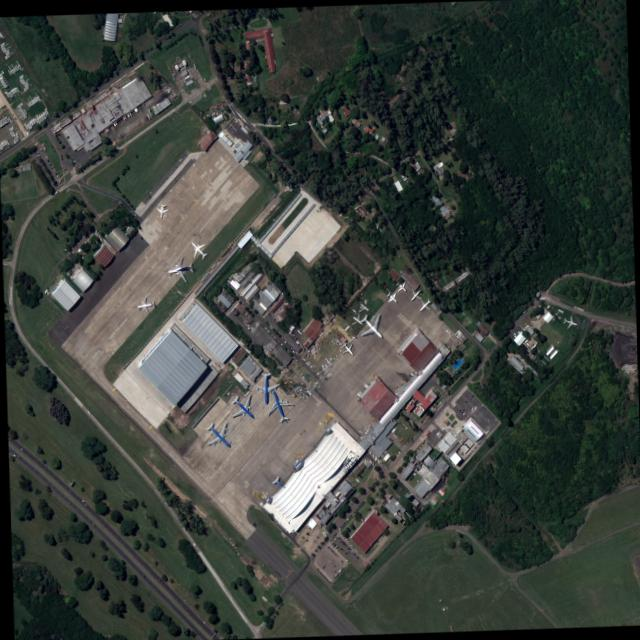large-vehicle: (127, 107, 133, 116), (111, 118, 117, 127), (139, 97, 145, 105), (112, 117, 118, 125), (120, 113, 126, 120), (125, 109, 130, 117), (122, 111, 127, 118), (105, 124, 110, 131), (104, 125, 109, 132), (103, 126, 107, 133), (146, 113, 151, 118), (192, 540, 196, 545), (322, 562, 325, 568), (364, 560, 368, 564), (87, 409, 91, 413), (265, 490, 268, 494), (149, 112, 152, 116), (262, 490, 265, 493)
plane: (199, 412, 240, 458), (354, 304, 393, 348), (224, 387, 264, 429), (259, 384, 297, 426), (268, 469, 301, 505), (251, 372, 281, 404), (165, 254, 195, 285), (185, 235, 211, 262), (405, 283, 426, 304), (414, 294, 435, 315), (338, 338, 358, 359), (136, 294, 156, 315), (393, 276, 411, 295), (383, 288, 402, 306), (562, 312, 579, 331), (153, 201, 170, 219)
small-vehicle: (54, 189, 59, 193), (164, 500, 168, 504), (470, 406, 474, 410), (523, 308, 527, 312), (12, 453, 16, 456), (369, 449, 372, 453), (35, 141, 38, 145), (292, 349, 295, 353), (341, 533, 344, 536), (346, 516, 349, 519), (357, 550, 360, 553), (429, 439, 432, 442), (487, 418, 490, 421), (8, 436, 11, 439), (406, 441, 409, 444), (361, 499, 364, 502), (358, 503, 361, 506), (142, 573, 145, 576), (55, 171, 58, 174), (54, 182, 57, 185), (42, 160, 45, 163), (51, 180, 54, 183), (52, 176, 55, 179), (88, 156, 91, 159), (40, 158, 43, 161), (203, 108, 206, 111), (41, 159, 44, 162), (438, 401, 441, 404), (440, 399, 443, 402), (322, 324, 325, 327), (462, 407, 465, 410), (468, 389, 471, 392), (471, 393, 474, 396), (84, 502, 87, 505), (284, 339, 287, 342), (34, 152, 37, 155), (35, 153, 38, 156), (38, 154, 41, 157), (518, 326, 521, 329), (264, 326, 267, 329), (266, 328, 269, 331), (372, 453, 374, 457), (289, 343, 291, 347), (350, 543, 353, 545), (348, 541, 350, 544), (343, 535, 345, 538), (340, 524, 342, 527), (342, 522, 344, 525), (343, 520, 345, 523), (345, 518, 347, 521), (347, 545, 349, 548), (346, 544, 348, 547), (343, 541, 345, 544), (350, 513, 352, 516), (352, 511, 354, 514), (353, 509, 355, 512), (431, 437, 433, 440), (423, 419, 425, 422), (425, 416, 428, 418), (427, 414, 429, 417), (355, 507, 357, 510), (481, 402, 483, 405), (20, 447, 23, 449), (372, 452, 374, 455), (375, 476, 377, 479), (371, 481, 373, 484), (357, 505, 359, 508), (158, 578, 161, 580), (312, 555, 314, 558), (331, 526, 333, 529), (333, 521, 336, 523), (92, 522, 95, 524), (336, 533, 338, 536), (343, 548, 345, 551), (340, 546, 342, 549), (332, 533, 335, 535), (331, 534, 333, 537), (339, 536, 341, 539), (344, 549, 346, 552), (333, 542, 335, 545), (334, 543, 336, 546), (332, 544, 334, 547), (333, 546, 336, 548), (335, 548, 338, 550), (328, 545, 330, 548), (25, 461, 28, 463), (34, 467, 36, 470), (57, 146, 59, 149), (59, 179, 61, 182), (65, 166, 67, 169), (64, 167, 66, 170), (56, 174, 59, 176), (88, 157, 90, 160), (57, 180, 59, 183), (45, 165, 47, 168), (51, 166, 54, 168), (49, 162, 52, 164), (46, 157, 49, 159), (46, 155, 48, 158), (44, 154, 47, 156), (44, 152, 46, 155), (43, 151, 45, 154), (42, 150, 45, 152), (41, 149, 44, 151), (40, 146, 42, 149), (215, 108, 218, 110), (89, 151, 91, 154), (270, 33, 273, 35), (223, 99, 225, 102), (216, 111, 218, 114), (217, 110, 219, 113), (91, 150, 94, 152), (42, 475, 44, 478), (439, 400, 441, 403), (437, 402, 440, 404), (441, 398, 443, 401), (442, 397, 444, 400), (443, 396, 445, 399), (433, 407, 436, 409), (459, 407, 461, 410), (461, 409, 463, 412), (465, 413, 467, 416), (476, 410, 478, 413), (39, 156, 42, 158), (230, 124, 232, 127), (34, 143, 37, 145), (372, 132, 374, 135), (376, 121, 379, 123), (168, 275, 171, 277), (446, 204, 448, 207), (511, 334, 514, 336), (515, 328, 518, 330), (347, 539, 349, 541), (345, 537, 347, 539), (356, 549, 358, 551), (348, 515, 350, 517), (352, 545, 354, 547), (270, 32, 272, 34), (348, 546, 350, 548), (426, 415, 428, 417), (427, 434, 429, 436), (428, 433, 430, 435), (487, 417, 489, 419), (426, 435, 428, 437), (402, 457, 404, 459), (398, 450, 400, 452), (369, 491, 371, 493), (367, 493, 369, 495), (360, 501, 362, 503), (321, 543, 323, 545), (203, 620, 205, 622), (317, 566, 319, 568), (322, 541, 324, 543), (335, 553, 337, 555), (341, 561, 343, 563), (340, 558, 342, 560), (336, 554, 338, 556), (334, 552, 336, 554), (340, 538, 342, 540), (342, 548, 344, 550), (341, 547, 343, 549), (334, 536, 336, 538), (333, 551, 335, 553), (337, 535, 339, 537), (345, 551, 347, 553), (331, 540, 333, 542), (332, 541, 334, 543), (335, 544, 337, 546), (336, 545, 338, 547), (327, 545, 329, 547), (330, 548, 332, 550), (331, 549, 333, 551), (332, 550, 334, 552), (17, 454, 19, 456), (61, 178, 63, 180), (60, 154, 62, 156), (44, 163, 46, 165), (49, 161, 51, 163), (48, 160, 50, 162), (48, 159, 50, 161), (47, 158, 49, 160), (45, 155, 47, 157), (41, 148, 43, 150), (217, 106, 219, 108), (218, 103, 220, 105), (214, 105, 216, 107), (212, 106, 214, 108), (213, 109, 215, 111), (94, 148, 96, 150), (40, 157, 42, 159), (434, 406, 436, 408), (435, 405, 437, 407), (436, 404, 438, 406), (437, 403, 439, 405), (255, 410, 257, 412), (462, 411, 464, 413), (463, 412, 465, 414), (464, 413, 466, 415), (465, 399, 467, 401), (68, 501, 70, 503), (68, 488, 70, 490), (34, 151, 36, 153), (30, 154, 32, 156), (36, 155, 38, 157), (37, 151, 39, 153), (37, 152, 39, 154), (38, 153, 40, 155), (239, 124, 241, 126), (134, 212, 136, 214), (537, 304, 539, 306), (546, 302, 548, 304), (350, 547, 351, 550), (354, 551, 355, 554), (353, 550, 354, 553), (352, 549, 353, 552), (351, 548, 352, 551), (342, 539, 343, 542), (343, 540, 344, 543), (357, 555, 358, 558), (338, 538, 339, 541), (205, 108, 206, 111), (431, 158, 432, 161), (254, 415, 257, 416), (139, 221, 140, 224), (339, 527, 340, 529), (356, 554, 357, 556), (355, 553, 356, 555), (346, 543, 347, 545), (339, 539, 340, 541), (346, 558, 347, 560), (341, 560, 343, 561), (335, 532, 337, 533), (339, 536, 340, 538), (329, 547, 331, 548), (61, 157, 62, 159), (199, 114, 201, 115), (462, 410, 463, 412), (235, 129, 236, 131), (234, 128, 235, 130), (150, 190, 151, 192), (334, 538, 335, 539), (345, 542, 345, 544), (330, 538, 330, 540)
storage-tank: (175, 63, 179, 69), (182, 58, 186, 64)
